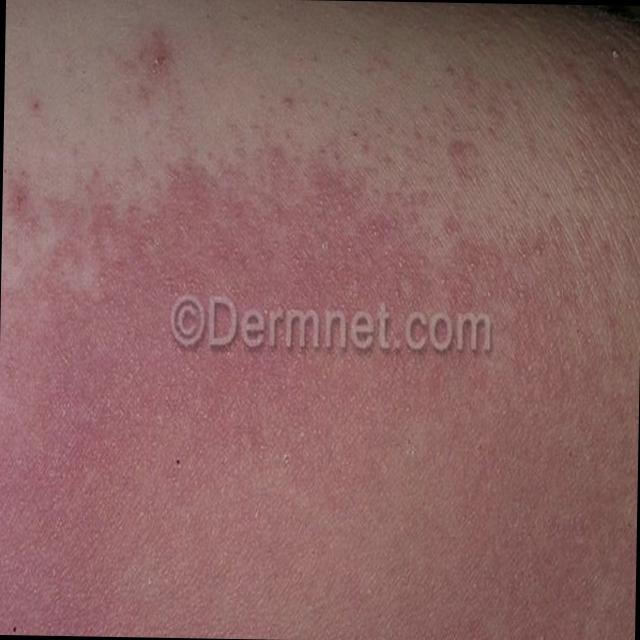Eczema: (0, 148, 600, 640)
